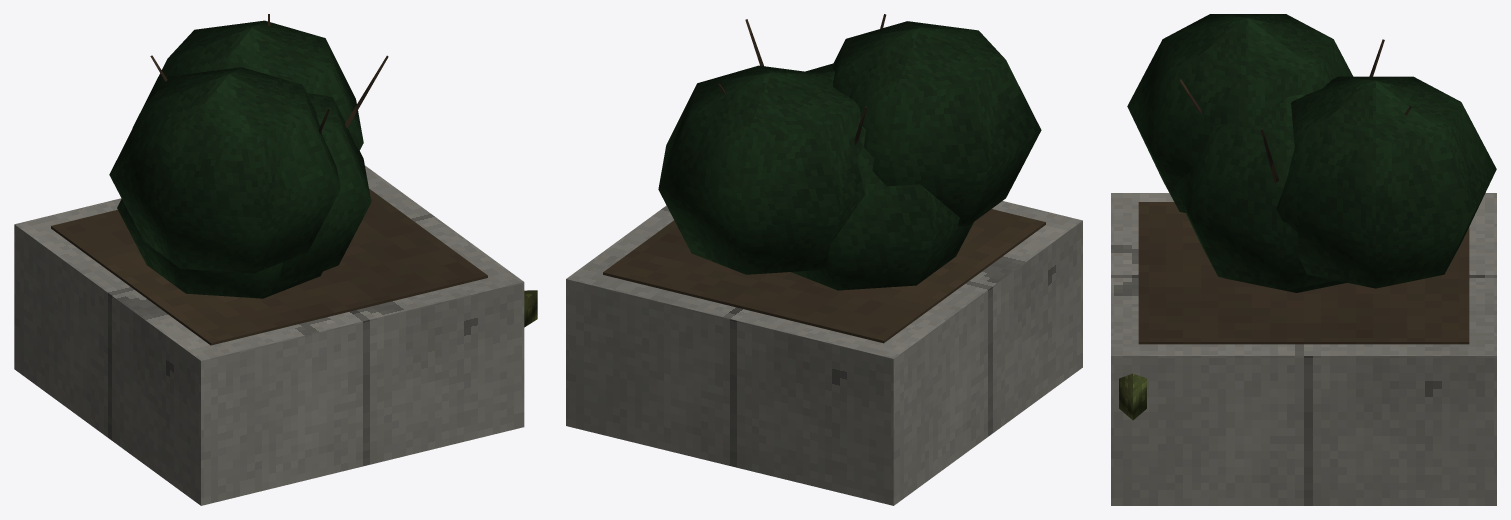
The model's file is town_planter.glb.
3 renders of one model, left to right at view 1: azimuth 30°, elevation 25°; view 2: azimuth 150°, elevation 25°; view 3: azimuth 270°, elevation 25°, orthographic. The views are drawn at different scales.
Visible parts, largest first — view 1: planter-col, detail; view 2: detail, planter-col; view 3: detail, planter-col.
Part boxes in pixels (bbox=[...]): planter-col: bbox=[14, 165, 524, 505]; detail: bbox=[51, 14, 537, 345]; detail: bbox=[603, 14, 1045, 343]; planter-col: bbox=[566, 201, 1082, 505]; detail: bbox=[1119, 14, 1496, 420]; planter-col: bbox=[1111, 193, 1496, 505].
Size of what is drawn, in the model's own units: 1.5 by 1.49 by 1.4.
Materials: 5 (5 with a texture image).
